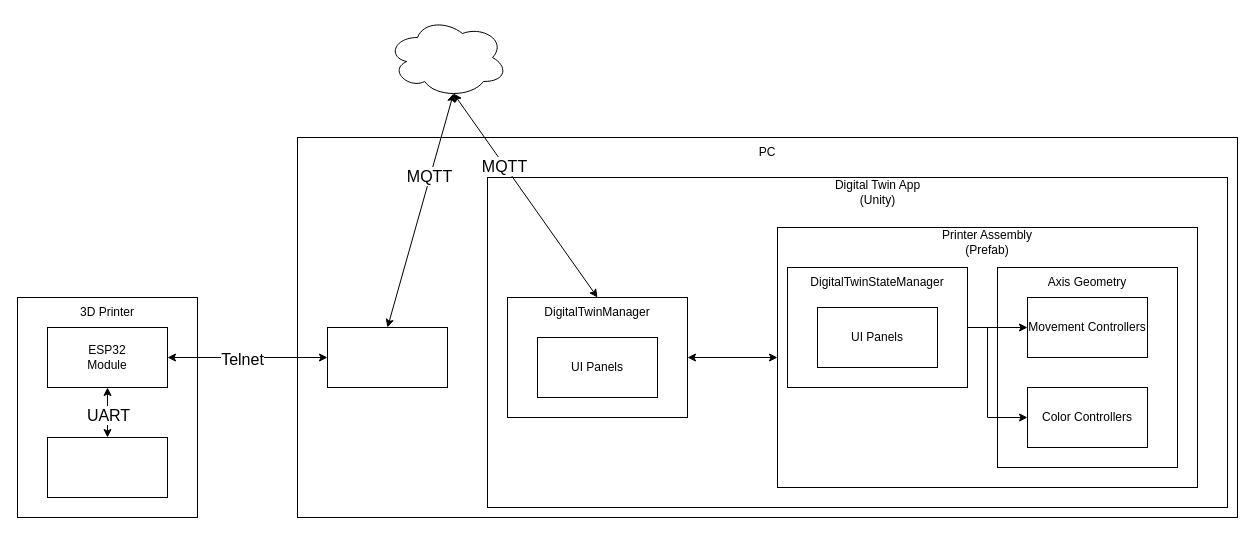
Some shapes in this 1255 by 535 pixel diagram are drawn without their labels. The shapes that lost their labels are listed below. From the top down, each one's centre as x and y in pixels, then its label:
At pixel 447 57: "MQTT Broker".
At pixel 387 357: "Telemetry Bridge Script (Python)".
At pixel 107 467: "Printer Motherboard (STM32F4)".
